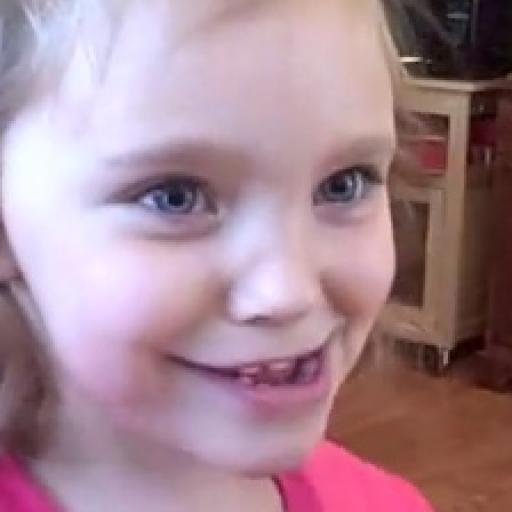Autism: (10, 0, 442, 512)
